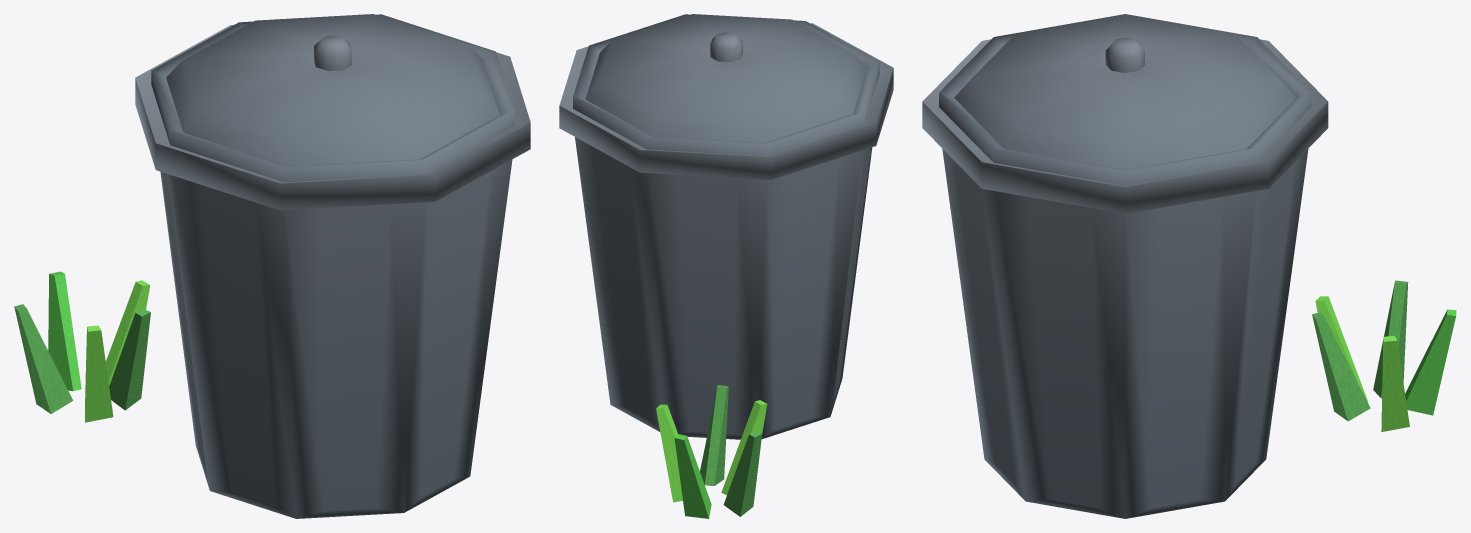
Rendered from park_7.fbx.
The picture shows the model from 3 angles, left to right: view 1: azimuth 30°, elevation 25°; view 2: azimuth 150°, elevation 25°; view 3: azimuth 270°, elevation 25°; orthographic projection. The views are drawn at different scales.
Visible parts, largest first — view 1: trashcan.002, grass.035; view 2: trashcan.002, grass.035; view 3: trashcan.002, grass.035.
Part boxes in pixels (<box>): trashcan.002: <box>135,14,530,518</box>; grass.035: <box>14,271,150,422</box>; trashcan.002: <box>559,14,893,439</box>; grass.035: <box>656,385,767,518</box>; trashcan.002: <box>922,14,1328,518</box>; grass.035: <box>1312,280,1456,431</box>.
Size of what is drawn, in the model's own units: 0.7019 by 0.8071 by 0.9206.
Materials: 1 (1 with a texture image).
